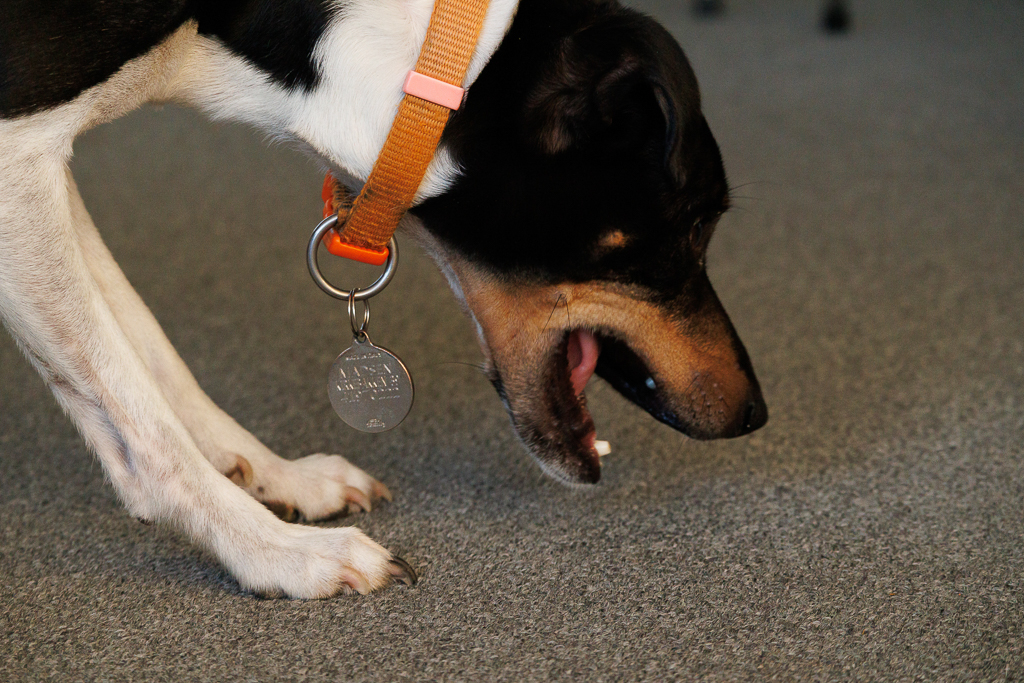Dog: (0, 0, 775, 603)
